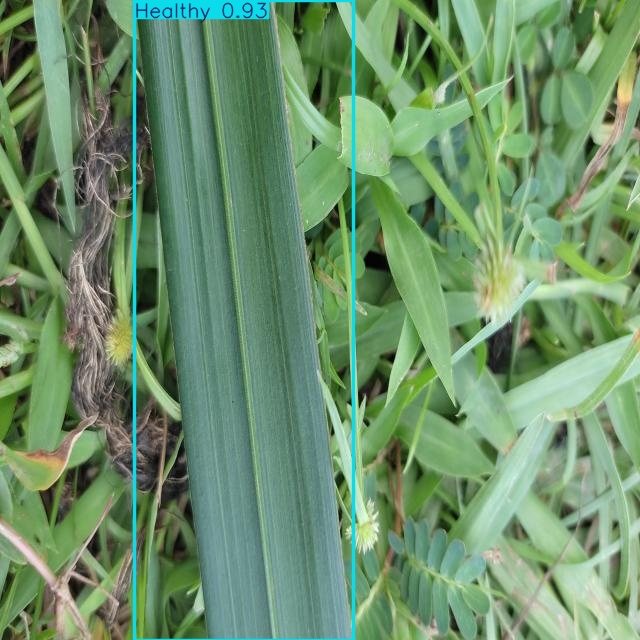Healthy: (134, 0, 353, 640)
